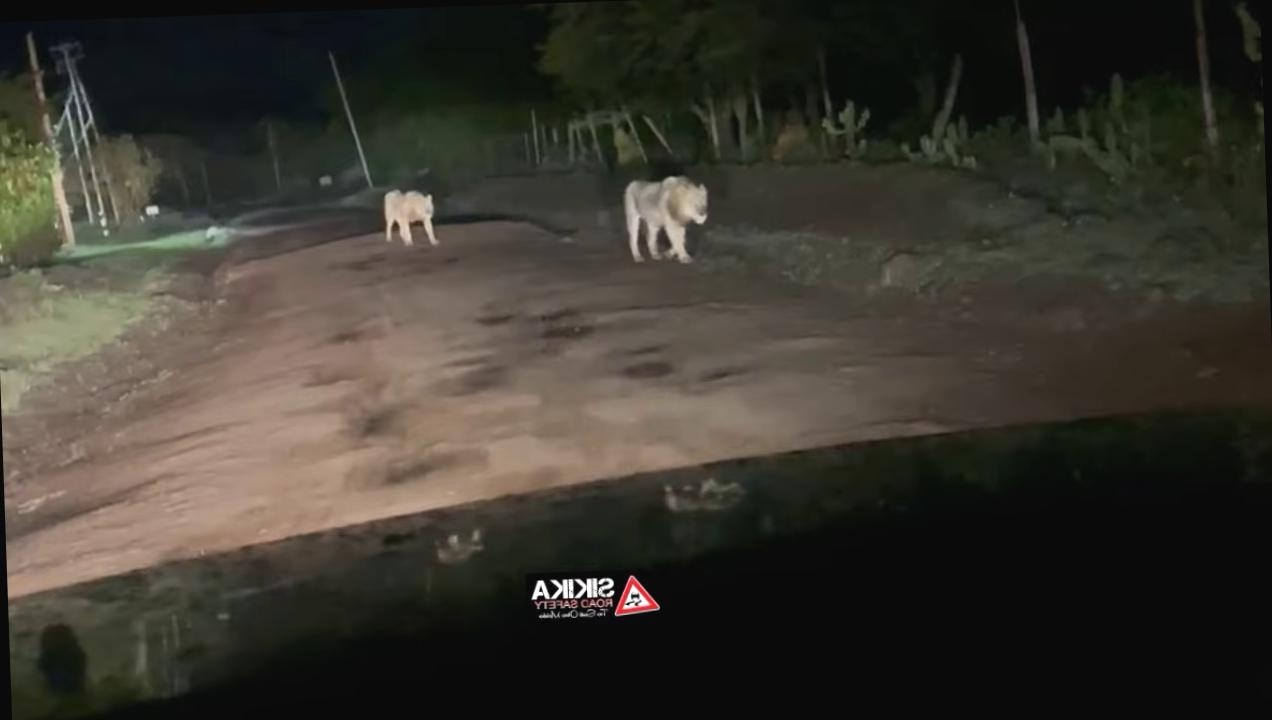lions: (610, 162, 720, 280), (374, 169, 450, 263)
